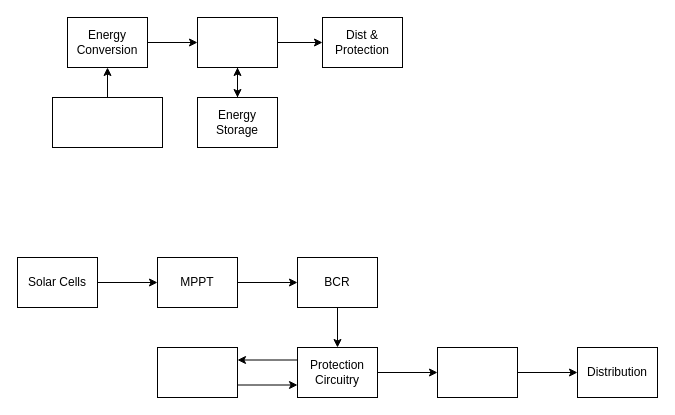
This 675x415 diagram has some shape labels left out. The shapes that lost their labels are listed below. From the top down, each one's centre as x and y in pixels, then its label:
(237,42): Power Reg/Comp
(107,122): Primary Energy Source
(197,372): Batteries
(477,372): Regulation
